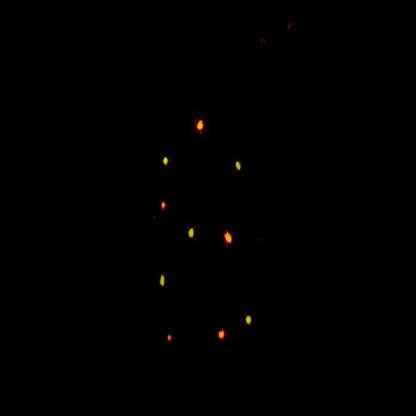PE: (241, 302, 270, 339), (151, 261, 174, 293), (184, 212, 202, 251), (155, 148, 174, 175), (230, 157, 246, 180)
PVC: (191, 111, 212, 142), (220, 226, 240, 255), (214, 323, 231, 351), (164, 323, 175, 350), (157, 196, 169, 217)
